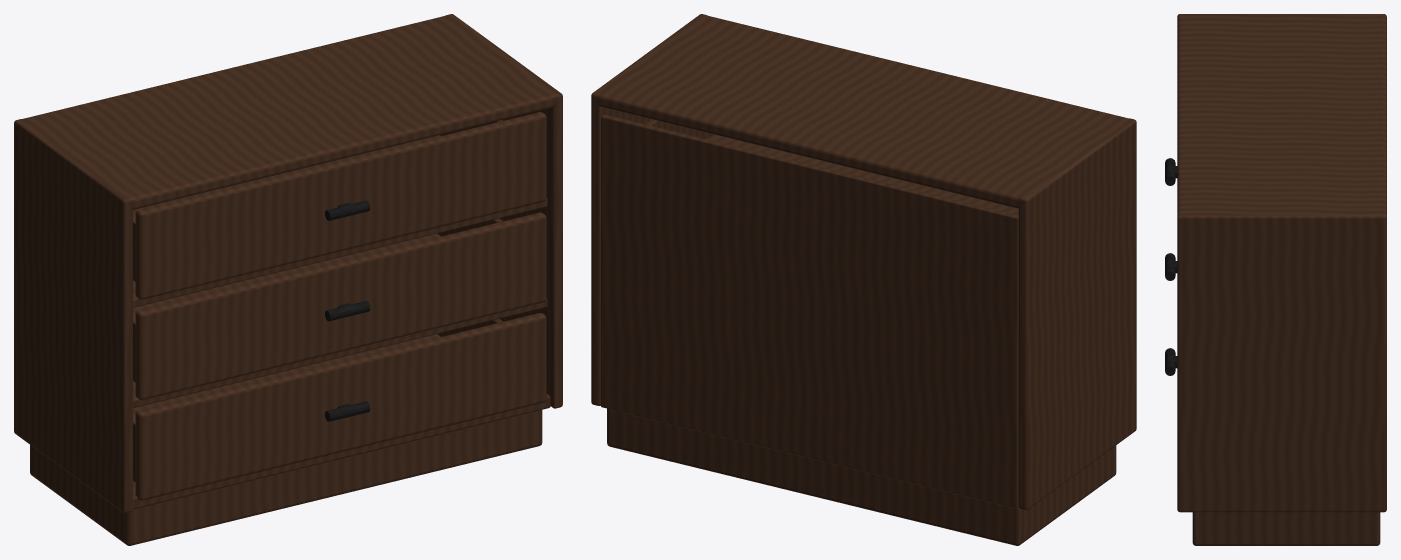
The model's file is FUR_Dresser.fbx.
3 renders of one model, left to right at view 1: azimuth 30°, elevation 25°; view 2: azimuth 150°, elevation 25°; view 3: azimuth 270°, elevation 25°, orthographic. The views are drawn at different scales.
Visible parts, largest first — view 1: Dresser_Body, Dresser_Drawer_Mid, Dresser_Drawer_Bot, Dresser_Drawer_Top; view 2: Dresser_Body, Dresser_Drawer_Top; view 3: Dresser_Body, Dresser_Drawer_Bot, Dresser_Drawer_Mid, Dresser_Drawer_Top.
Part boxes in pixels (x1=…): Dresser_Body: x1=14, y1=14, x2=562, y2=545; Dresser_Drawer_Mid: x1=133, y1=212, x2=546, y2=400; Dresser_Drawer_Bot: x1=133, y1=313, x2=546, y2=500; Dresser_Drawer_Top: x1=133, y1=112, x2=546, y2=299; Dresser_Body: x1=591, y1=14, x2=1136, y2=545; Dresser_Drawer_Top: x1=645, y1=119, x2=1018, y2=215; Dresser_Body: x1=1177, y1=14, x2=1386, y2=545; Dresser_Drawer_Bot: x1=1165, y1=348, x2=1177, y2=375; Dresser_Drawer_Mid: x1=1165, y1=253, x2=1177, y2=280; Dresser_Drawer_Top: x1=1165, y1=158, x2=1177, y2=185.
Size of the model in its own units: 110 by 85 by 50.8.
